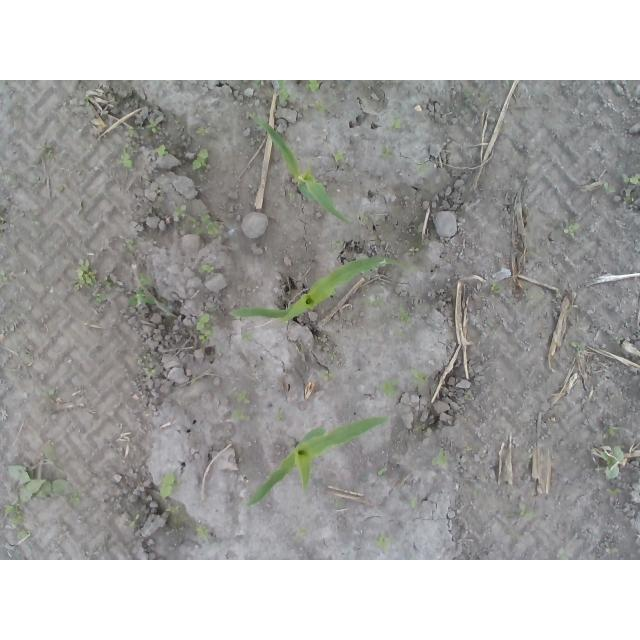Maize: (243, 416, 393, 512), (224, 257, 402, 323), (253, 113, 355, 224)
Weeds: (4, 463, 81, 506), (173, 205, 223, 237), (72, 256, 112, 289), (225, 389, 257, 424), (1, 507, 32, 542), (128, 273, 157, 310), (117, 126, 138, 170), (600, 444, 624, 481), (194, 312, 214, 346), (159, 471, 182, 498), (137, 351, 160, 377), (373, 527, 395, 554), (511, 503, 539, 522), (376, 378, 401, 399), (191, 148, 209, 172), (313, 96, 338, 113), (86, 288, 112, 304), (602, 424, 625, 441), (431, 446, 449, 467), (40, 383, 61, 401), (409, 368, 430, 385), (360, 295, 385, 309), (399, 303, 414, 326), (382, 112, 402, 129), (378, 144, 397, 161), (39, 446, 58, 462), (294, 527, 311, 544), (37, 141, 53, 159), (621, 173, 640, 188), (128, 511, 143, 530), (145, 117, 160, 136), (154, 143, 174, 157), (192, 522, 208, 539), (320, 367, 337, 383), (599, 180, 618, 194), (463, 87, 473, 113), (489, 282, 505, 298), (272, 410, 288, 426), (621, 192, 640, 205), (306, 80, 323, 94), (240, 330, 257, 344), (400, 261, 418, 274), (199, 261, 218, 273), (0, 270, 12, 288), (416, 160, 429, 176), (564, 223, 577, 239), (0, 175, 18, 186), (606, 487, 625, 497), (336, 147, 349, 161), (165, 503, 183, 513), (404, 247, 420, 258), (336, 239, 345, 258), (127, 240, 137, 257), (355, 215, 370, 226), (279, 97, 297, 106), (559, 544, 569, 560), (407, 495, 418, 509), (32, 176, 41, 192), (570, 340, 582, 352), (196, 127, 209, 138), (376, 467, 388, 478), (286, 191, 298, 202), (464, 391, 475, 402), (335, 499, 345, 510), (83, 96, 91, 109), (247, 111, 257, 121), (501, 80, 513, 88), (158, 208, 166, 219), (255, 80, 266, 88), (328, 352, 337, 361), (464, 446, 473, 454), (431, 383, 437, 394), (159, 303, 169, 309), (279, 320, 289, 325), (283, 127, 289, 133)
